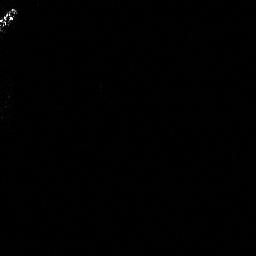ship: (1, 4, 20, 37)
